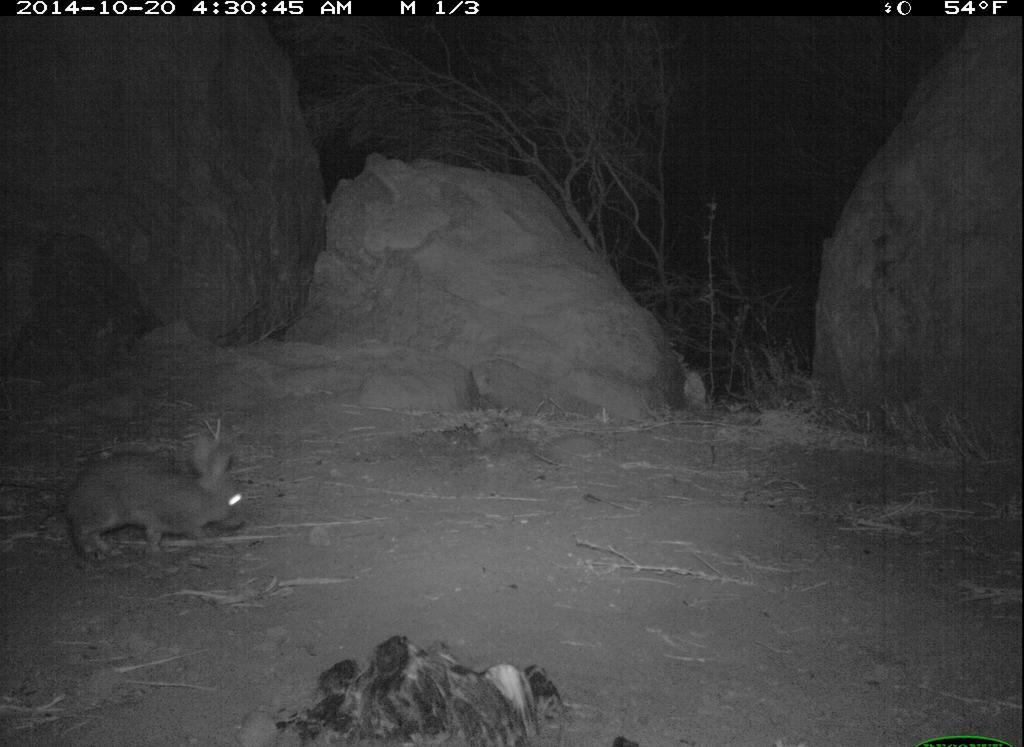rabbit: (41, 428, 263, 564)
